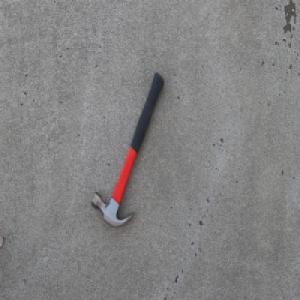Hammer: (90, 72, 165, 229)
